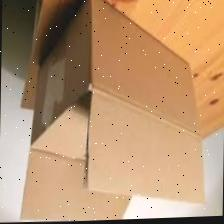cardboard: (6, 1, 209, 224)
